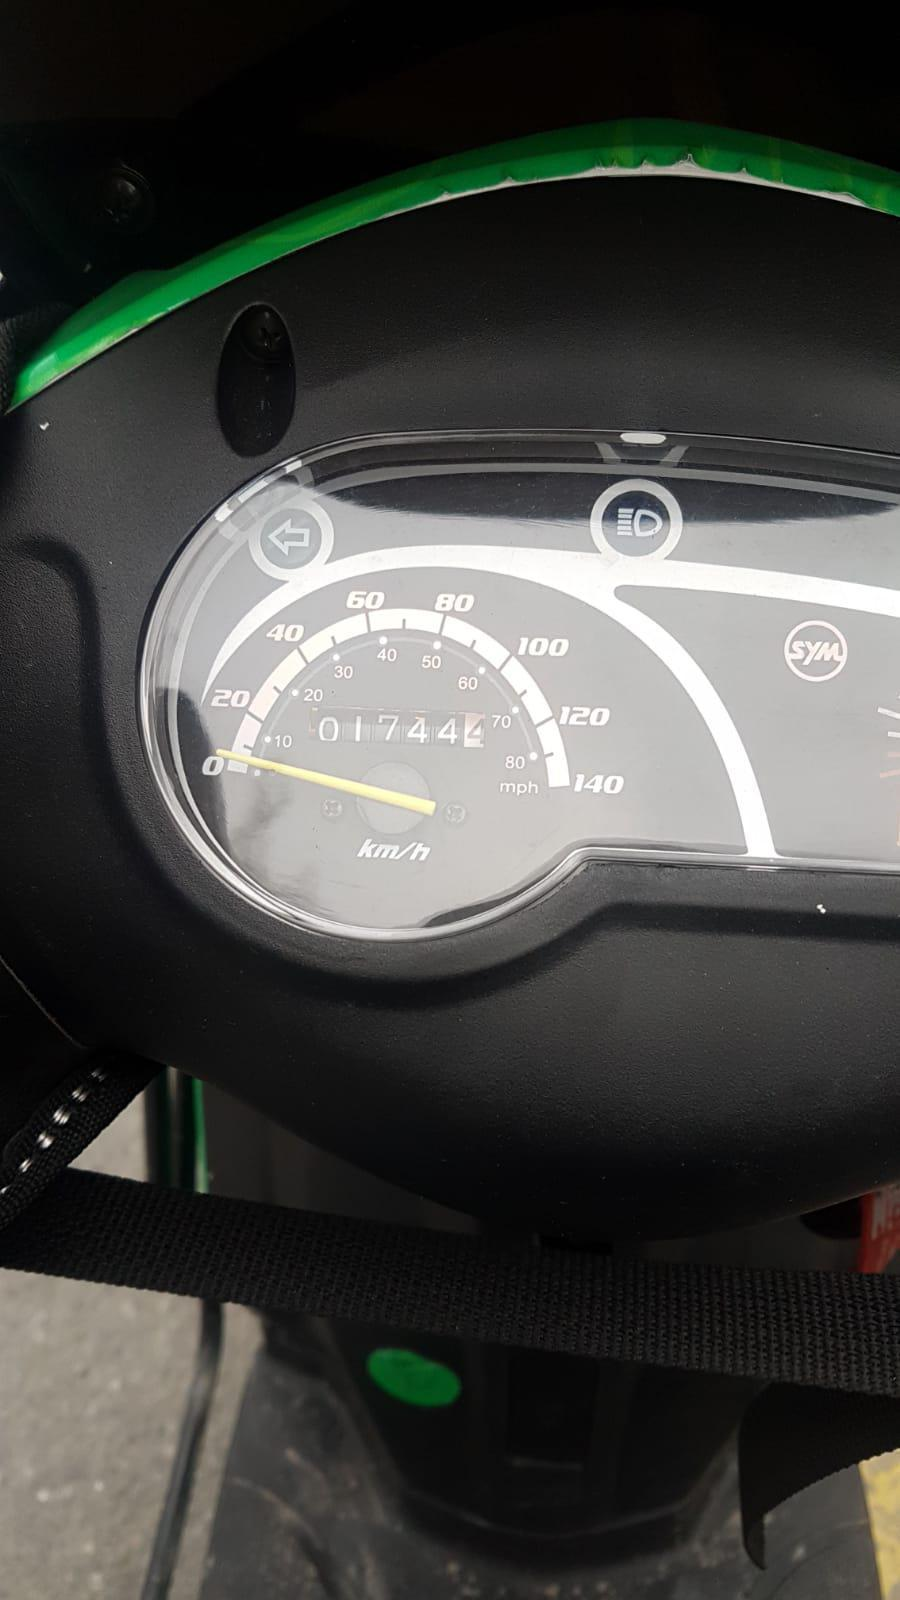0: (315, 709, 340, 748)
1: (349, 710, 365, 753)
4: (466, 715, 488, 753), (405, 714, 429, 747), (437, 716, 459, 747)
7: (373, 709, 398, 744)
odometer: (304, 703, 492, 757)
